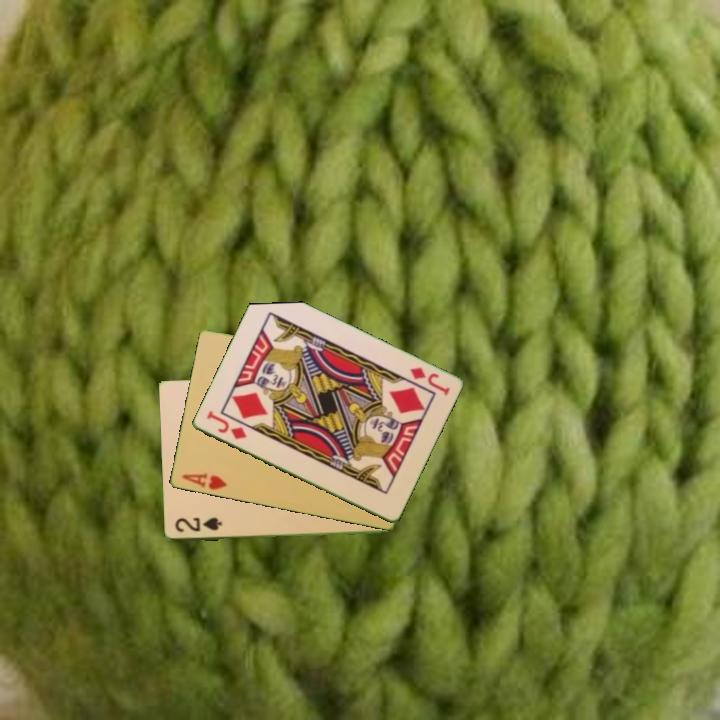2s: (171, 514, 224, 535)
Ah: (178, 470, 230, 493)
Jd: (202, 407, 249, 443), (406, 364, 452, 399)
